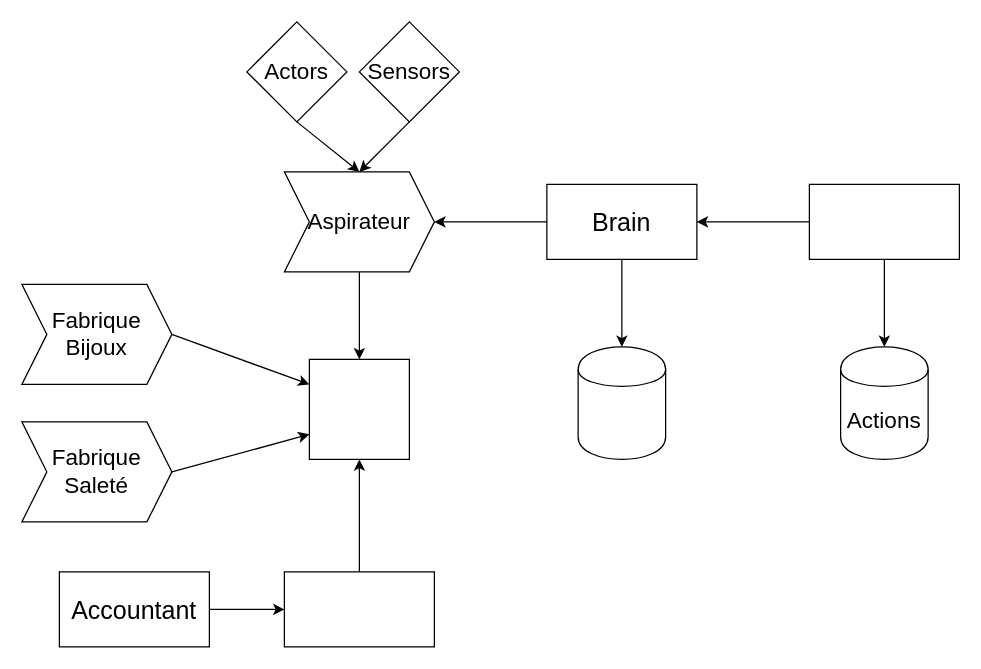
This 981x669 diagram has some shape labels left out. The shapes that lost their labels are listed below. From the top down, each one's box as (x1, y1, x2, y2) in pixels, then its label:
(808, 183, 959, 259): Problem
(308, 358, 409, 459): Manoir
(577, 346, 666, 459): Nodes
(283, 571, 434, 647): Floor
